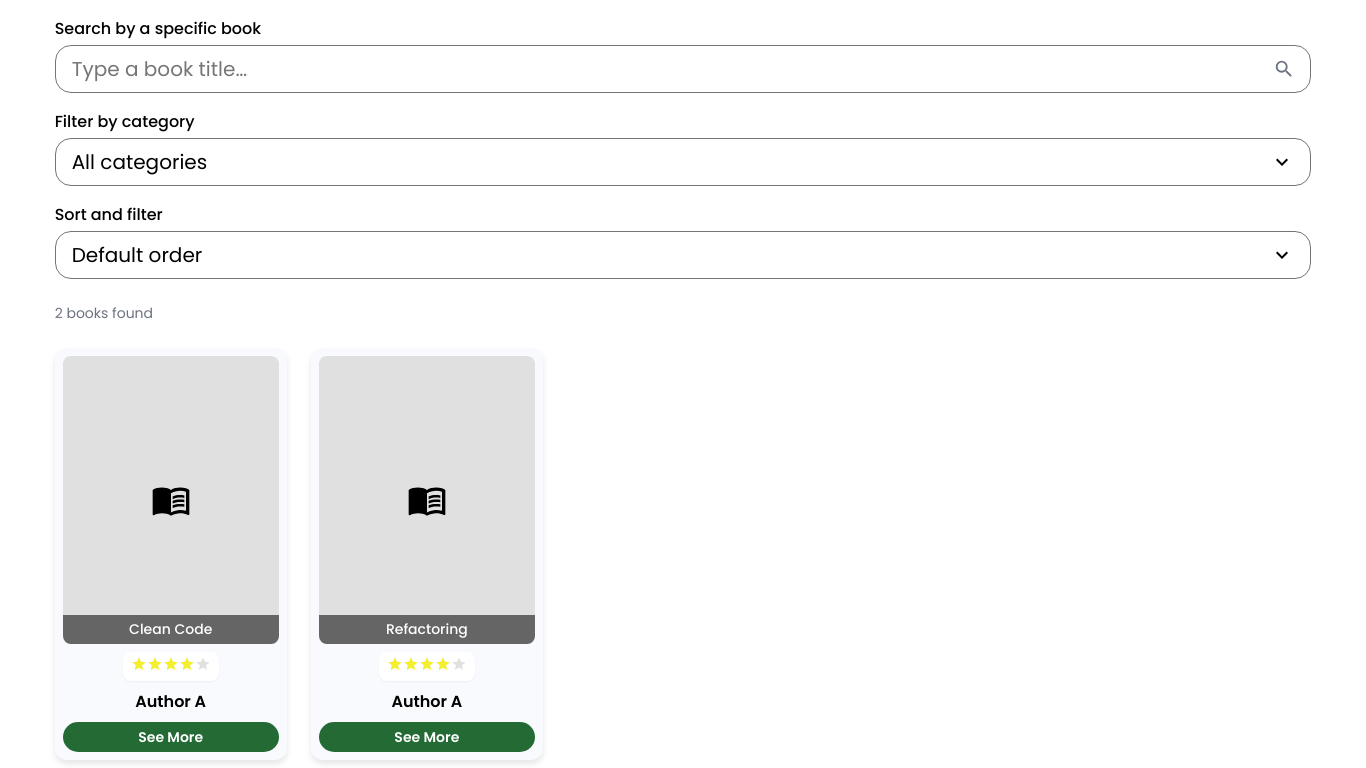
Test: CategoriesPage (integration) › opens the sort and filter dropdown and lists all options
Expected: the text "Clean Code" is shown, [63,615,279,644]
Click the button named "sort and filter".
click(137, 255)  # box [55,231,1311,279]
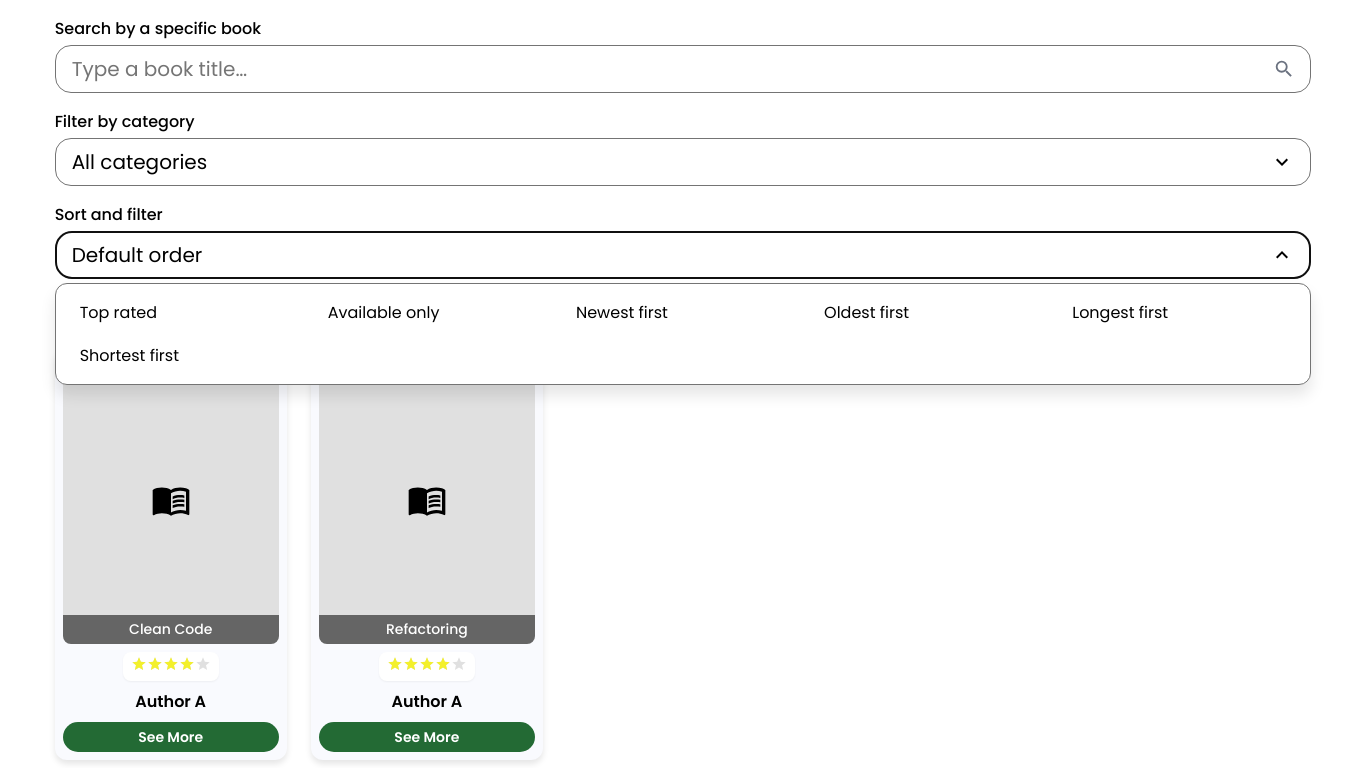
Expected: the checkbox labelled "Top rated" is shown, [80,301,157,324]
Expected: the checkbox labelled "Available only" is shown, [328,301,439,324]
Expected: the checkbox labelled "Newest first" is shown, [576,301,668,324]
